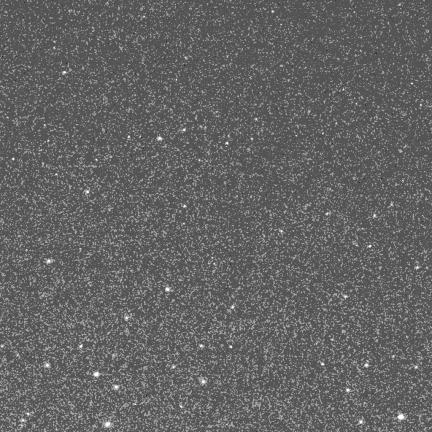blob: (93, 372, 100, 378), (398, 414, 404, 420), (44, 362, 50, 367), (105, 422, 110, 427), (201, 379, 206, 383), (165, 287, 170, 291), (359, 420, 364, 424), (125, 316, 129, 321), (373, 214, 377, 219), (279, 229, 283, 233), (114, 385, 118, 389), (47, 259, 51, 263), (365, 363, 369, 367), (346, 388, 350, 392), (414, 365, 418, 369), (183, 128, 187, 132), (180, 405, 184, 409), (62, 71, 66, 75), (231, 306, 235, 310), (157, 137, 162, 140), (229, 346, 233, 349), (79, 344, 82, 348), (86, 190, 89, 194), (368, 245, 372, 248), (183, 205, 187, 208), (27, 412, 30, 416), (415, 266, 419, 269), (172, 365, 175, 369), (226, 142, 229, 146), (344, 295, 348, 298), (200, 344, 203, 347), (12, 158, 15, 161), (321, 362, 324, 365), (326, 212, 329, 215), (128, 136, 130, 139)
